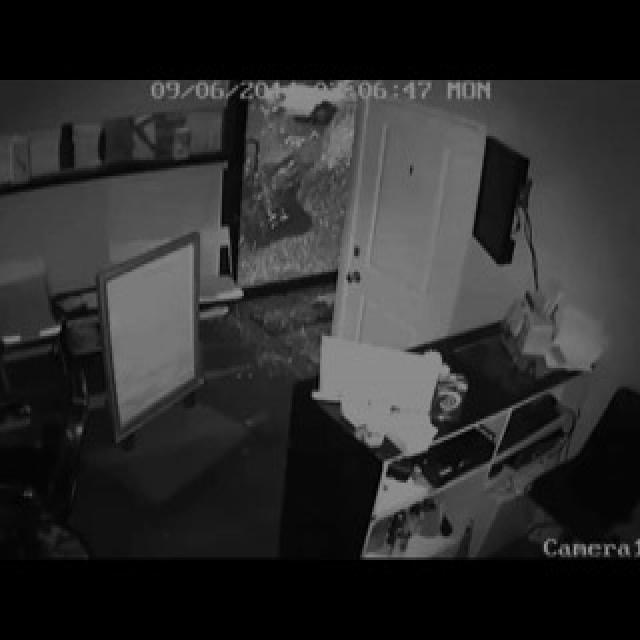burglary: (236, 124, 347, 293)
